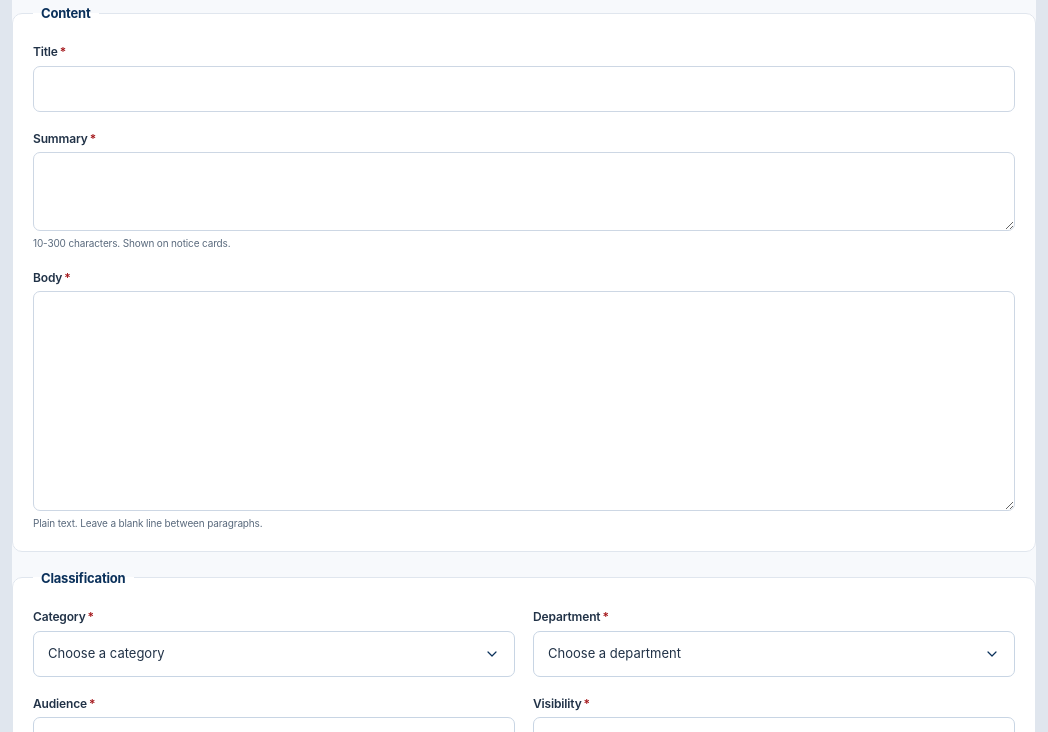
Scenario: FE NoticeForm › FE-1 shows field errors and blocks submit when required fields are missing
In the field labelled "Title*": [524, 89] box x1=33 y1=66 x2=1015 y2=112, type "Exam timetable"
(page scrolled)
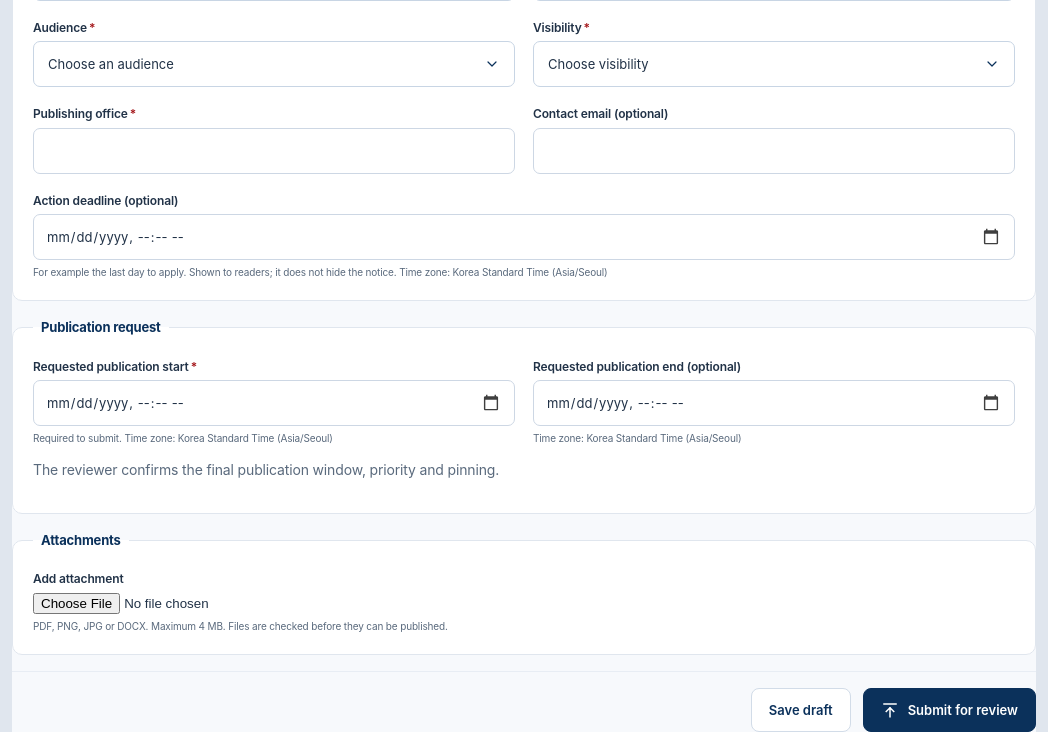
Click the button "Submit for review": [949, 710] box x1=863 y1=688 x2=1036 y2=731
(page scrolled)
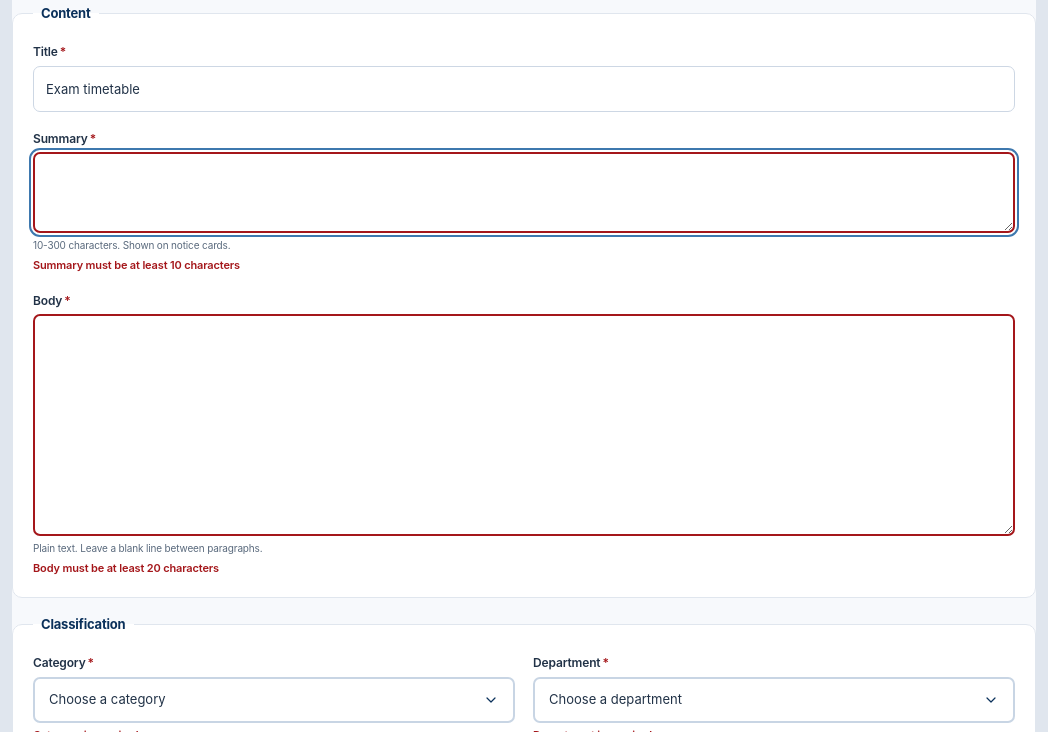
Result: the text "Summary must be at least 10 characters" is shown at x1=33 y1=258 x2=240 y2=272
Result: the text "Body must be at least 20 characters" is shown at x1=33 y1=561 x2=219 y2=575
